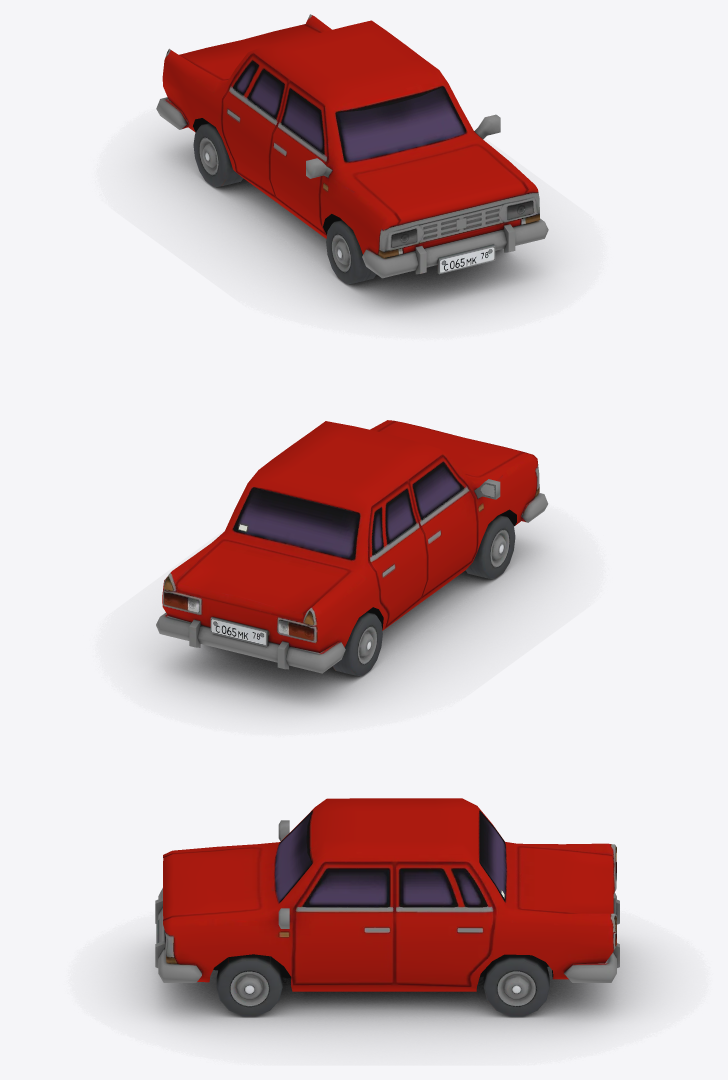
The model's file is banger.glb.
3 renders of one model, top to bottom at view 1: azimuth 30°, elevation 25°; view 2: azimuth 150°, elevation 25°; view 3: azimuth 270°, elevation 25°, orthographic.
Parts seen in each view (by area): view 1: Object001_Material #233_0, Plane001_Material #237_0; view 2: Object001_Material #233_0, Plane001_Material #237_0; view 3: Object001_Material #233_0, Plane001_Material #237_0.
Part boxes in pixels (bbox=[...]): Object001_Material #233_0: bbox=[156, 14, 548, 284]; Plane001_Material #237_0: bbox=[158, 131, 546, 315]; Object001_Material #233_0: bbox=[156, 420, 548, 676]; Plane001_Material #237_0: bbox=[157, 527, 546, 711]; Object001_Material #233_0: bbox=[155, 798, 619, 1016]; Plane001_Material #237_0: bbox=[134, 942, 642, 1031].
Bounding box in the file's own units: 263 × 108 × 448.
2 materials, 2 textured.
